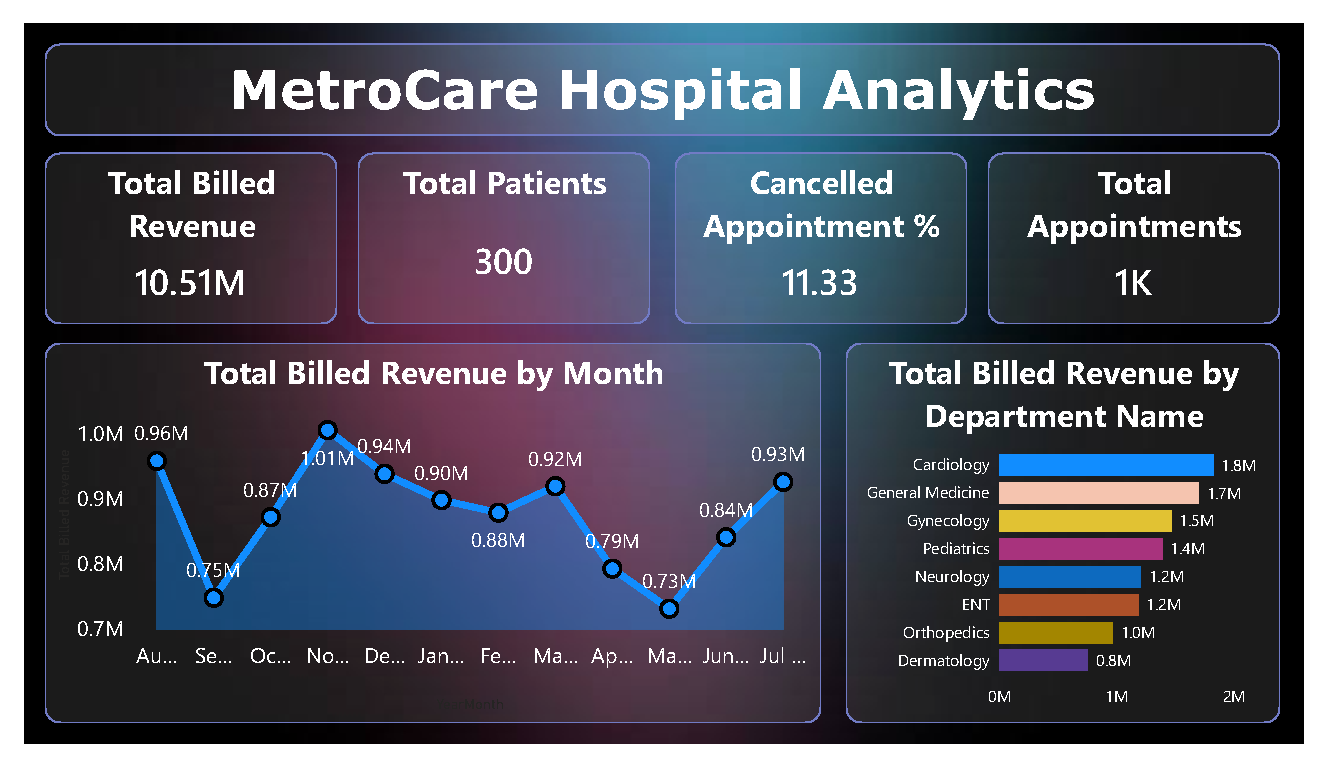

Layout of this report page (visuals, bound fields, positions):
{"tool":"powerbi","page":{"name":"Executive Overview","canvas":[1280,720],"ordinal":0},"visuals":[{"type":"lineChart","title":"Total Billed Revenue by Month","fields":{"Y":["Measure Table.Total Billed Revenue"],"Category":["DimDate.YearMonth"]},"box":[21.3,318.9,775.3,379.8],"z":0},{"type":"cardVisual","title":"Total Appointments","fields":{"Data":["Measure Table.Total Appointments"]},"box":[963.8,129,292,171.5],"z":1000},{"type":"textbox","box":[21.3,19.8,1234.5,92.1],"z":2000},{"type":"cardVisual","title":"Total Billed Revenue","fields":{"Data":["Measure Table.Total Billed Revenue"]},"box":[21.3,129,292,171.5],"z":3000},{"type":"cardVisual","title":"Total Patients","fields":{"Data":["Measure Table.Total Patients"]},"box":[334.5,129,292,171.5],"z":4000},{"type":"cardVisual","title":"Cancelled Appointment %","fields":{"Data":["Measure Table.Cancelled Appointment %"]},"box":[650.6,129,292,171.5],"z":5000},{"type":"barChart","title":"Total Billed Revenue by Department Name","fields":{"Category":["public departments.department_name"],"Y":["Measure Table.Total Billed Revenue"]},"box":[822,318.9,433.7,379.8],"z":6000}]}

Visuals, with their boxes in screenshot pixels (x1, y1, x2, y2), scaled from the page's 1280x720 canvas onto the 1328x768 screenshot:
"Total Billed Revenue by Month" lineChart: 22 340 826 745
"Total Appointments" cardVisual: 1000 138 1303 321
textbox: 22 21 1303 119
"Total Billed Revenue" cardVisual: 22 138 325 321
"Total Patients" cardVisual: 347 138 650 321
"Cancelled Appointment %" cardVisual: 675 138 978 321
"Total Billed Revenue by Department Name" barChart: 853 340 1303 745
